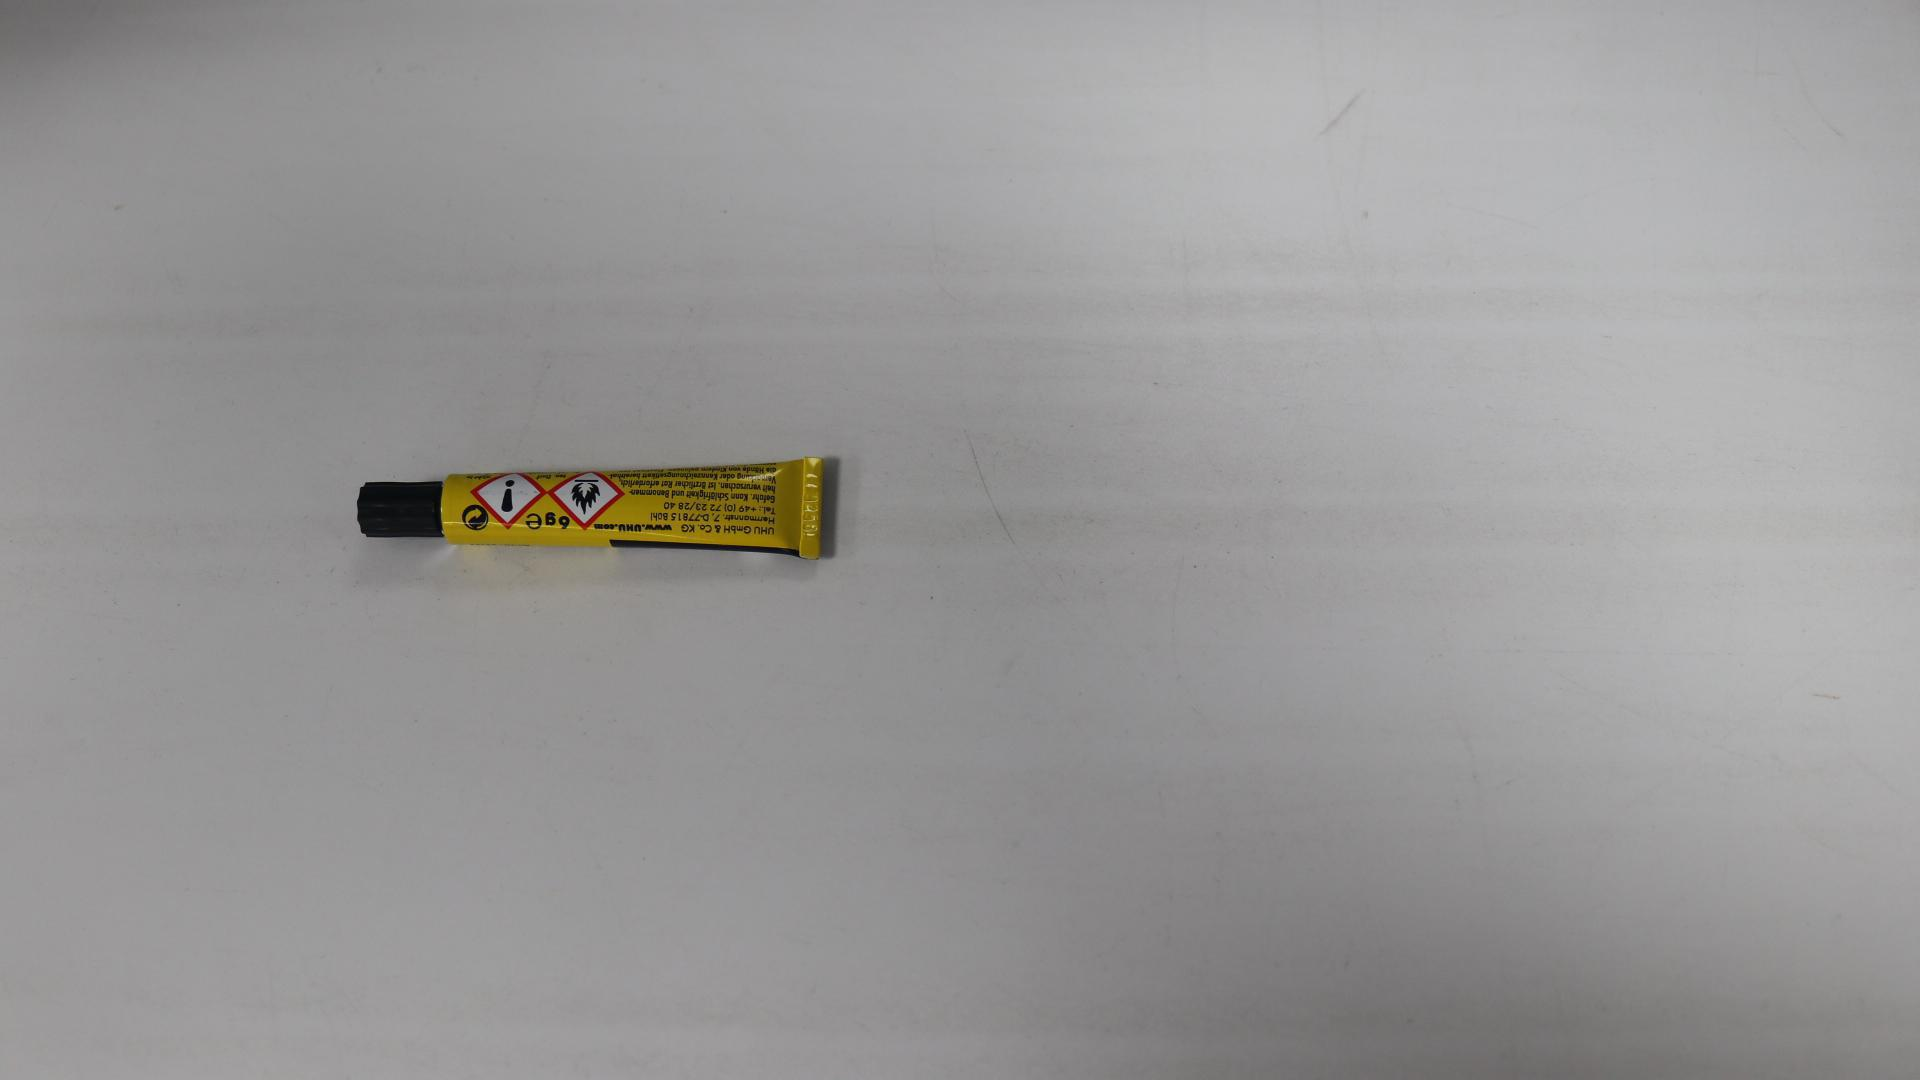Head: (393, 504, 404, 514)
Tail: (803, 500, 819, 517)
Tube: (358, 456, 825, 561)
